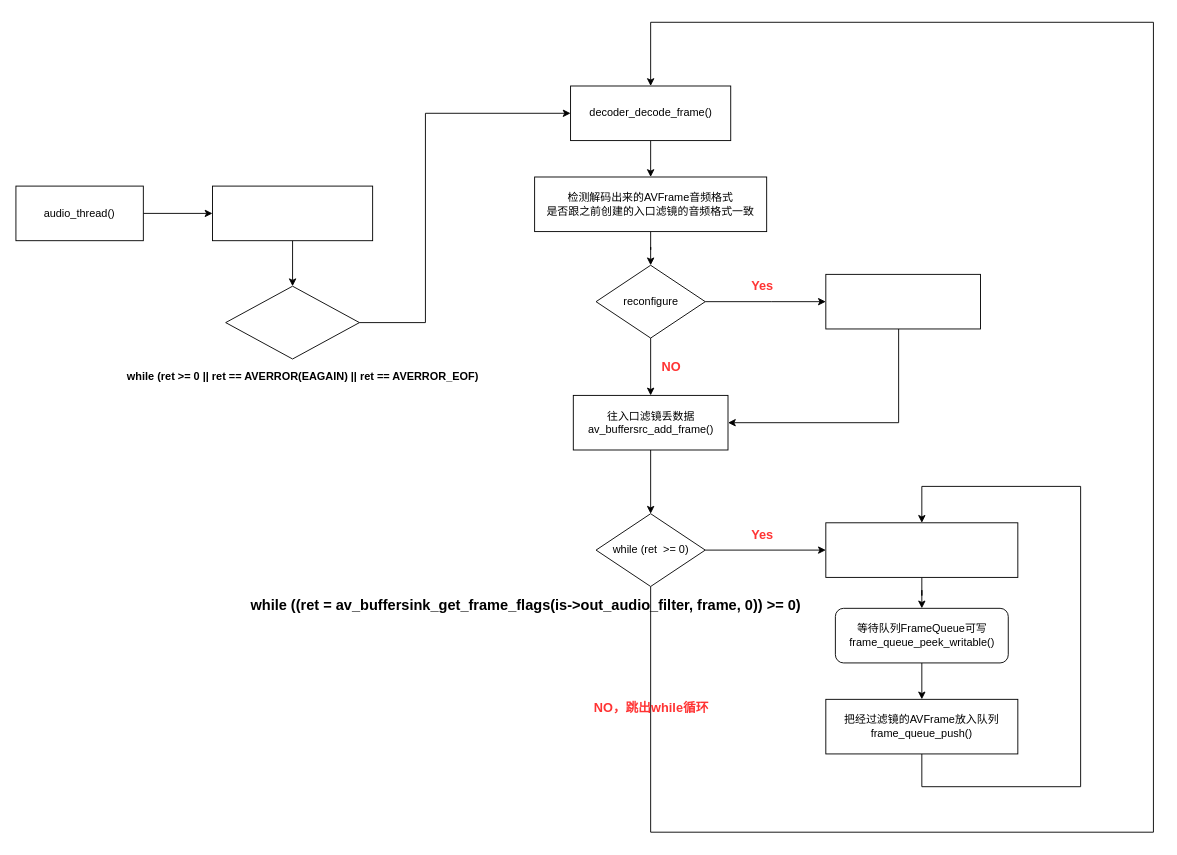
Some shapes in this 1177 by 855 pixel diagram are drawn without their labels. Here are the shapes that lost their labels. From the top down, the centre of each, then its label:
At point (292, 213): "av_frame_alloc()".
At point (903, 301): "重新配置滤镜 configure_audio_filters()".
At point (292, 322): "do{...} while{ ret ... }".
At point (921, 549): "不断往出口滤镜读数据 av_buffersink_get_frame_flags()".
